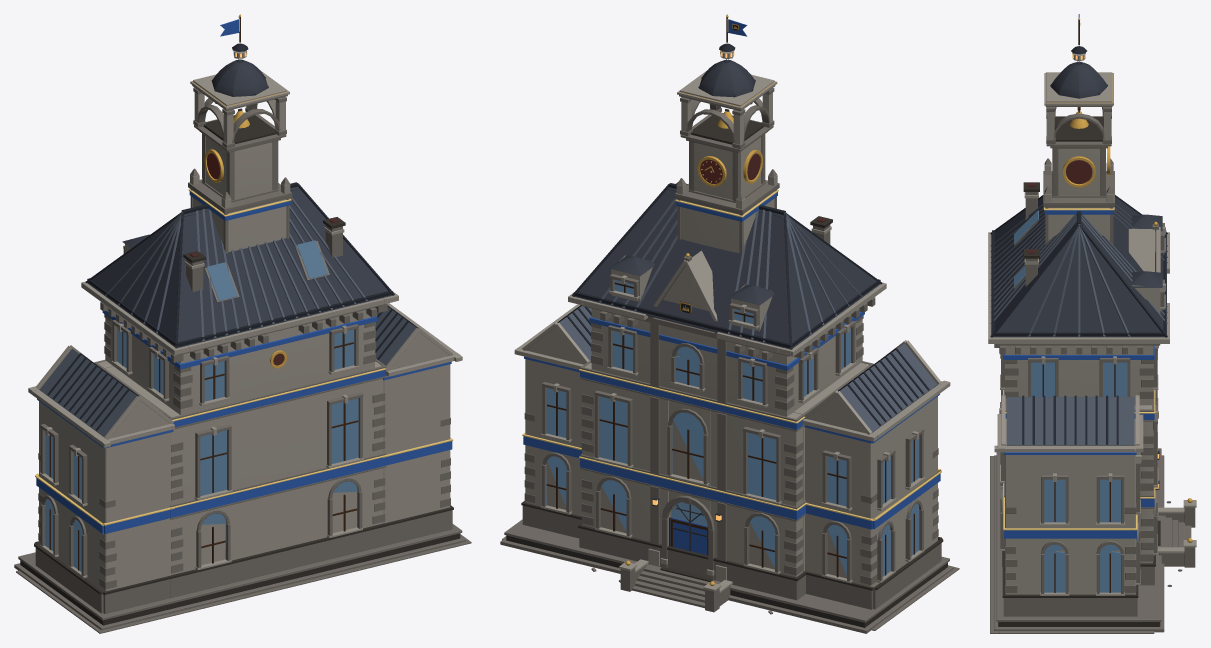
The model's file is 城镇大厅.glb.
3 renders of one model, left to right at view 1: azimuth 30°, elevation 25°; view 2: azimuth 150°, elevation 25°; view 3: azimuth 270°, elevation 25°, orthographic. The views are drawn at different scales.
Parts seen in each view (by area): view 1: TH-stone_light, TH-stone_mid, TH-roof, TH-roof_pale, TH-glass, TH-team, TH-stone_dark, TH-roof_edge, TH-team_trim, TH-wood_dark, TH-gold; view 2: TH-stone_light, TH-stone_mid, TH-roof, TH-glass, TH-team, TH-roof_pale, TH-stone_dark, TH-roof_edge, TH-wood_dark, TH-team_trim, TH-gold, TH-coal; view 3: TH-stone_light, TH-stone_mid, TH-roof, TH-roof_pale, TH-glass, TH-roof_edge, TH-team, TH-stone_dark, TH-gold, TH-team_trim, TH-coal, TH-wood_dark.
Boxes of the visible parts, left/top/right/bottom form: TH-stone_light: left=28, top=50, right=462, bottom=591; TH-stone_mid: left=14, top=85, right=471, bottom=633; TH-roof: left=87, top=60, right=392, bottom=347; TH-roof_pale: left=39, top=183, right=415, bottom=437; TH-glass: left=45, top=240, right=358, bottom=571; TH-team: left=36, top=19, right=452, bottom=533; TH-stone_dark: left=20, top=115, right=460, bottom=625; TH-roof_edge: left=47, top=43, right=417, bottom=430; TH-team_trim: left=35, top=19, right=453, bottom=525; TH-wood_dark: left=49, top=17, right=358, bottom=570; TH-gold: left=192, top=14, right=287, bottom=368; TH-stone_light: left=514, top=50, right=950, bottom=592; TH-stone_mid: left=500, top=85, right=959, bottom=633; TH-roof: left=574, top=60, right=880, bottom=349; TH-glass: left=546, top=280, right=919, bottom=576; TH-team: left=523, top=19, right=940, bottom=554; TH-roof_pale: left=559, top=184, right=937, bottom=432; TH-stone_dark: left=506, top=115, right=947, bottom=627; TH-roof_edge: left=557, top=24, right=929, bottom=425; TH-wood_dark: left=546, top=17, right=914, bottom=577; TH-team_trim: left=522, top=19, right=941, bottom=520; TH-gold: left=625, top=14, right=774, bottom=585; TH-coal: left=680, top=23, right=826, bottom=312; TH-stone_light: left=988, top=53, right=1196, bottom=595; TH-stone_mid: left=990, top=105, right=1195, bottom=633; TH-roof: left=991, top=62, right=1166, bottom=337; TH-roof_pale: left=990, top=204, right=1167, bottom=445; TH-glass: left=1014, top=210, right=1153, bottom=592; TH-roof_edge: left=990, top=46, right=1167, bottom=444; TH-team: left=1003, top=14, right=1154, bottom=538; TH-stone_dark: left=998, top=116, right=1160, bottom=626; TH-gold: left=1045, top=17, right=1192, bottom=542; TH-team_trim: left=1003, top=207, right=1155, bottom=530; TH-coal: left=1028, top=160, right=1092, bottom=253; TH-wood_dark: left=1042, top=20, right=1115, bottom=592.
Size of the model in its own units: 18.1 by 25.21 by 8.99.
